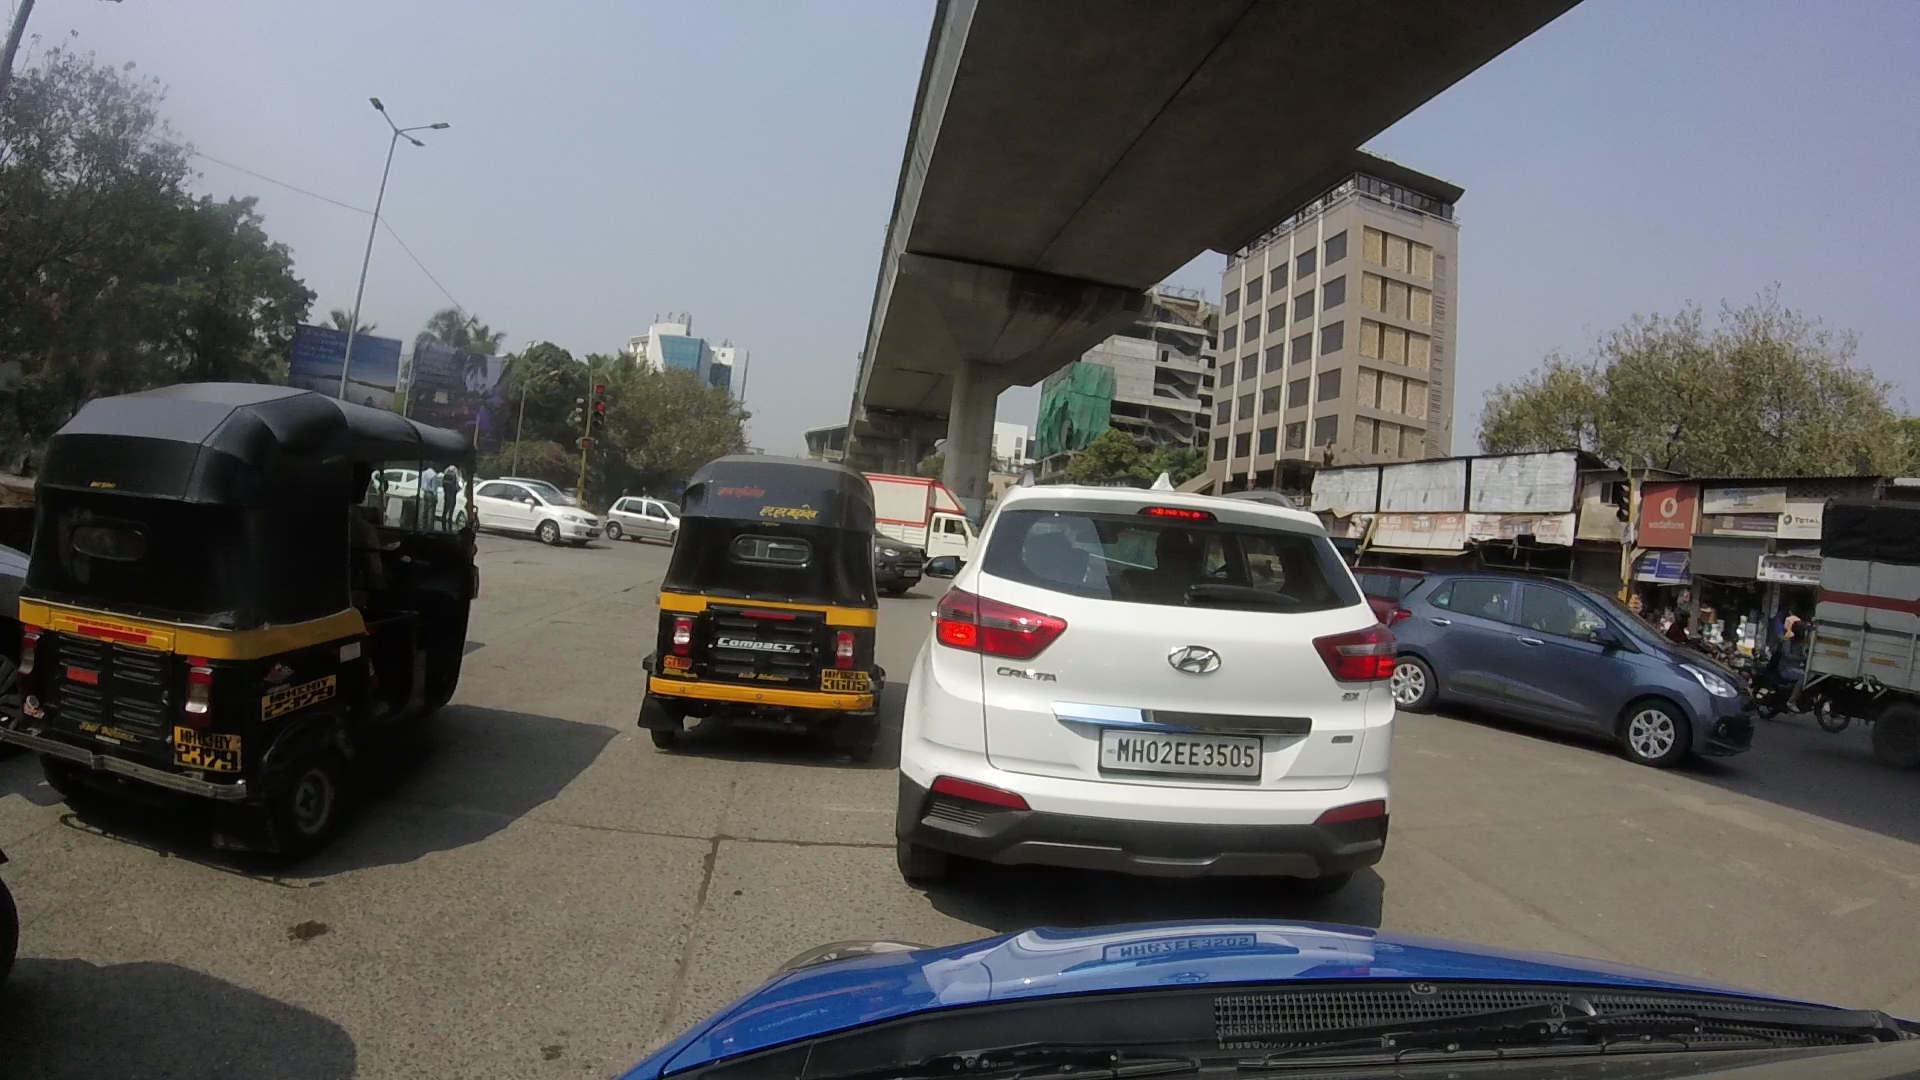car: (898, 460, 1410, 895), (1386, 537, 1749, 781), (451, 458, 604, 560)
rickshaw: (15, 351, 510, 857), (645, 429, 918, 785)
